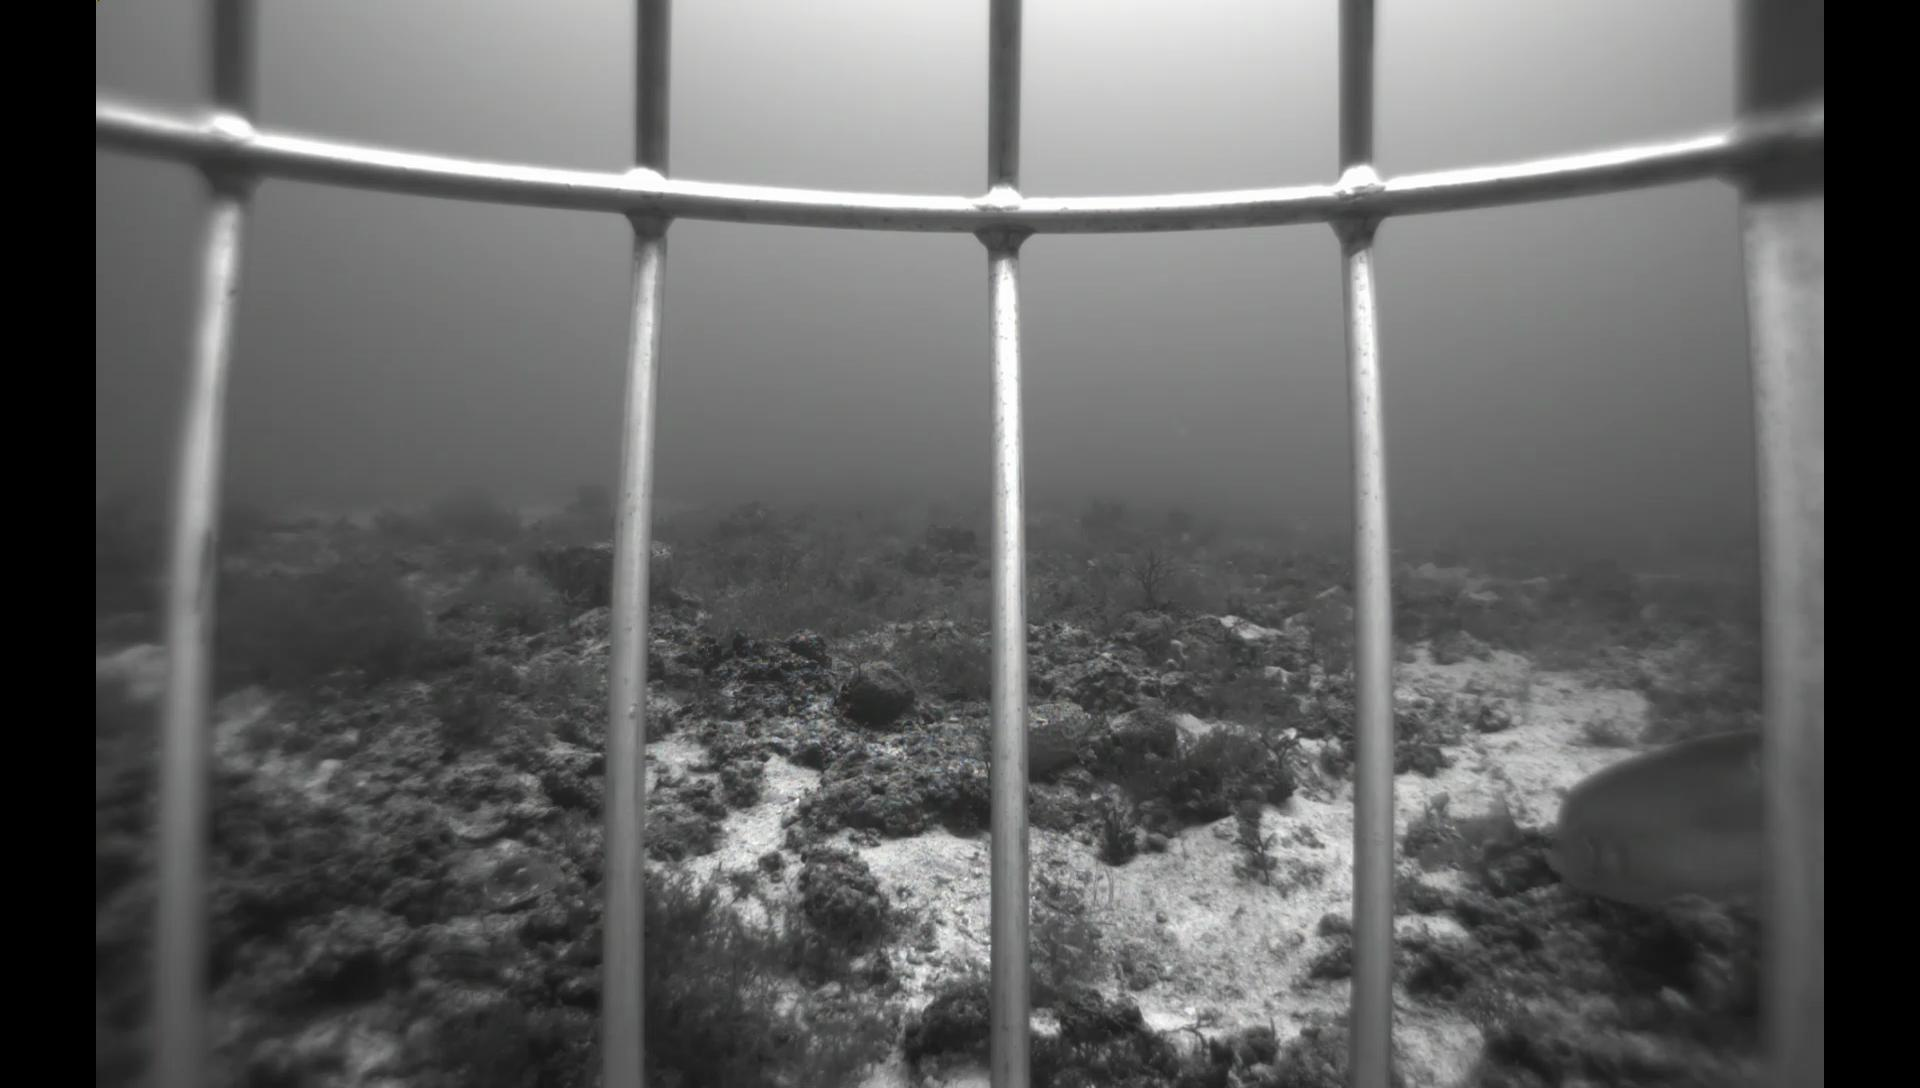HOLACANTHUSBERMUDENSIS-170290102: (1534, 725, 1762, 934)
SERRANUSANNULARIS-170024201: (419, 938, 506, 980)
